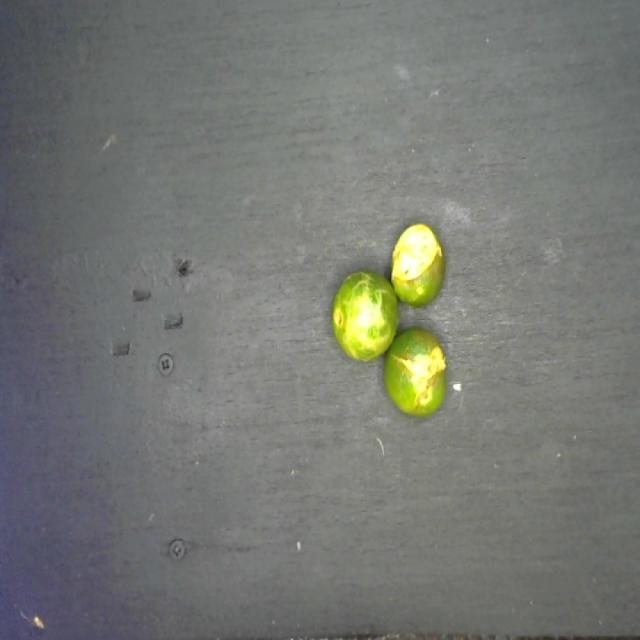biodegradable: (329, 217, 455, 420)
